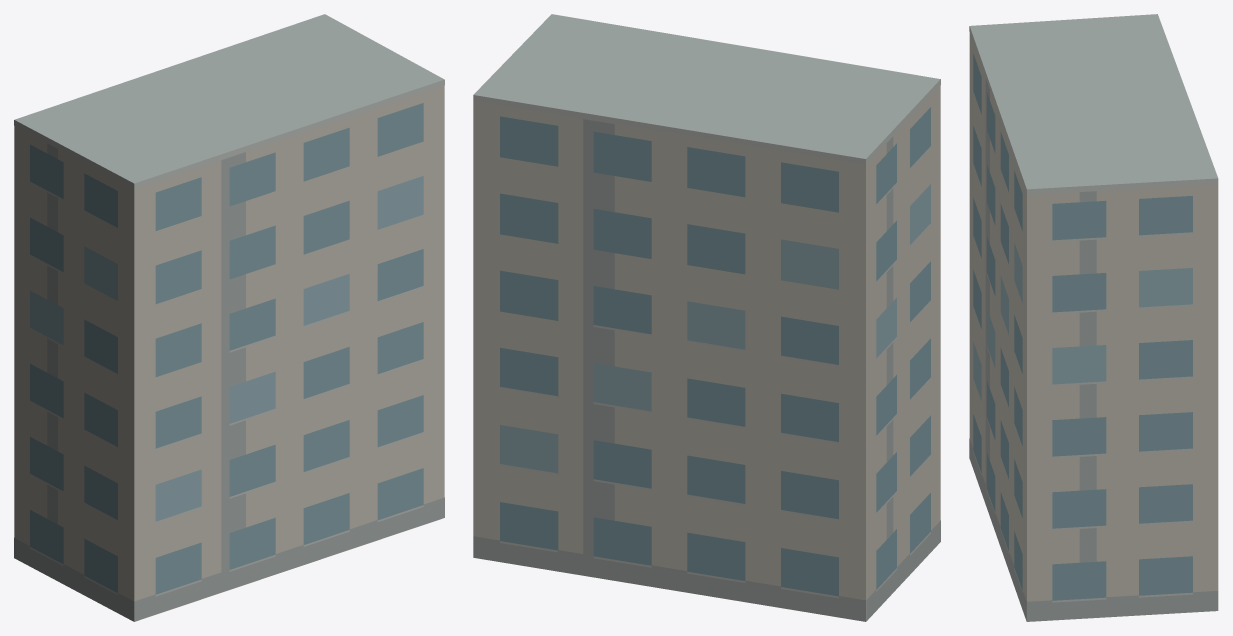
File: survey-upis-32577508.glb
The picture shows the model from 3 angles, left to right: view 1: azimuth 30°, elevation 25°; view 2: azimuth 150°, elevation 25°; view 3: azimuth 270°, elevation 25°; orthographic projection. The views are drawn at different scales.
Visible parts, largest first — view 1: survey-upis-32577508.tmp; view 2: survey-upis-32577508.tmp; view 3: survey-upis-32577508.tmp.
Boxes of the visible parts, bbox=[...] form: survey-upis-32577508.tmp: bbox=[14, 14, 444, 621]; survey-upis-32577508.tmp: bbox=[473, 14, 940, 621]; survey-upis-32577508.tmp: bbox=[969, 14, 1218, 621].
Bounding box in the file's own units: 15.92 × 18.3 × 9.55.
